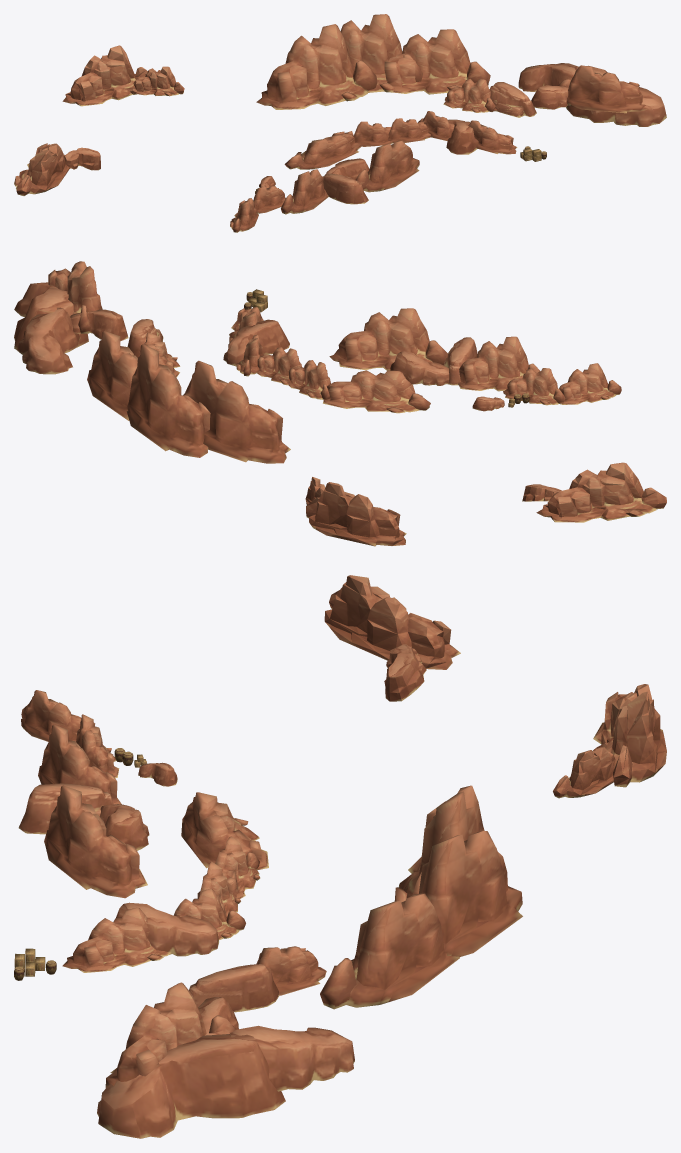
The model's file is rock_red02_y.FBX.
3 views of the same model, one above another, from view 1: azimuth 30°, elevation 25°; view 2: azimuth 150°, elevation 25°; view 3: azimuth 270°, elevation 25° (orthographic). The views are drawn at different scales.
Visible parts, largest first — view 1: rock_red02_y; view 2: rock_red02_y; view 3: rock_red02_y.
Boxes of the visible parts, box(x1,y1,x2,y2) form: rock_red02_y: box(14, 14, 666, 232); rock_red02_y: box(14, 261, 666, 546); rock_red02_y: box(14, 575, 666, 1138).
Size of the model in its own units: 162 by 20.55 by 88.77.
Materials: 1 (1 with a texture image).
